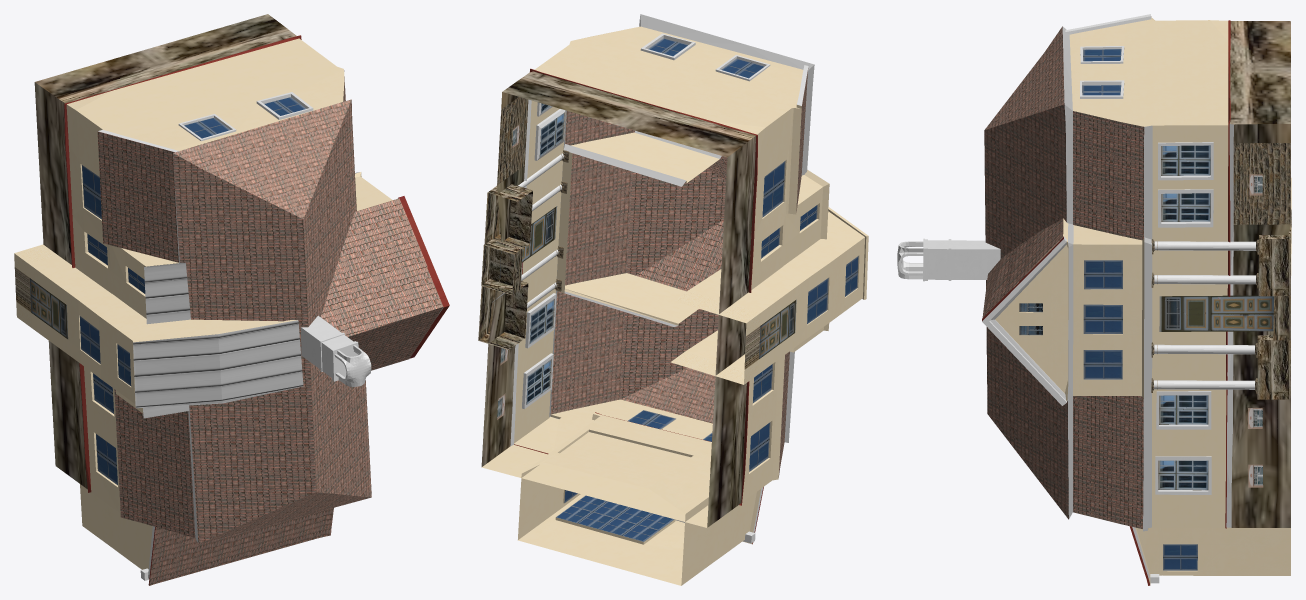
The model's file is Uus_21.obj.
3 renders of one model, left to right at view 1: azimuth 30°, elevation 25°; view 2: azimuth 150°, elevation 25°; view 3: azimuth 270°, elevation 25°, orthographic. The views are drawn at different scales.
Visible parts, largest first — view 1: uus21; view 2: uus21; view 3: uus21.
Part boxes in pixels (x1,y1,x2,y2): uus21: [14, 14, 449, 585]; uus21: [478, 14, 868, 585]; uus21: [897, 14, 1291, 585].
Size of the model in its own units: 12.78 by 20.22 by 15.11.
